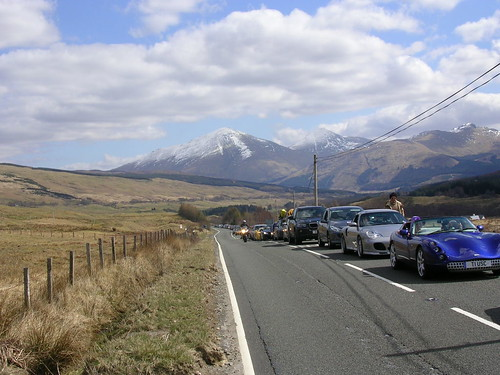car: (391, 212, 500, 273), (345, 208, 402, 253), (317, 203, 361, 245), (284, 201, 322, 240)
mountain: (288, 98, 500, 167), (112, 99, 280, 177)
sky: (1, 1, 493, 127)
vegetation: (1, 175, 185, 375)
